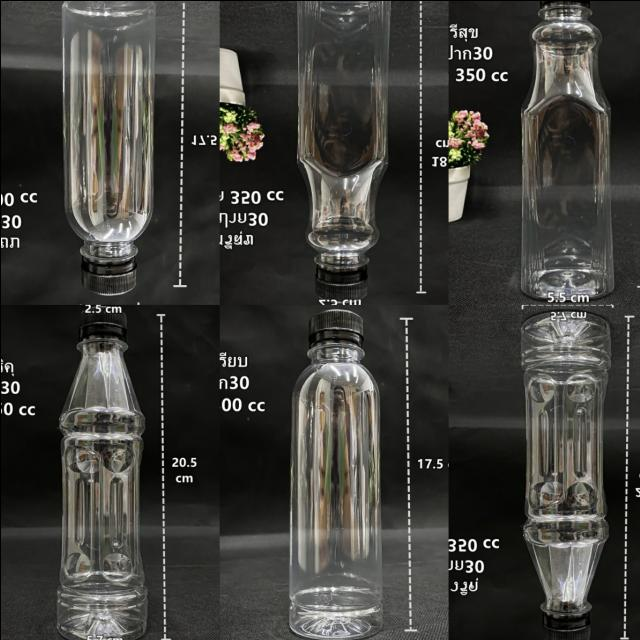plastik: (289, 308, 381, 638), (56, 310, 147, 640), (520, 311, 609, 640), (61, 0, 155, 294), (297, 0, 389, 298), (521, 0, 612, 301)
